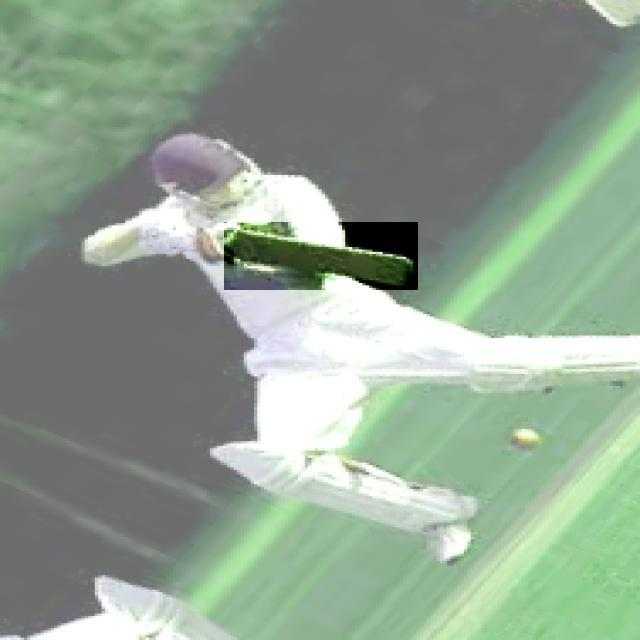bat: (224, 224, 419, 290)
toe: (396, 255, 420, 285)
